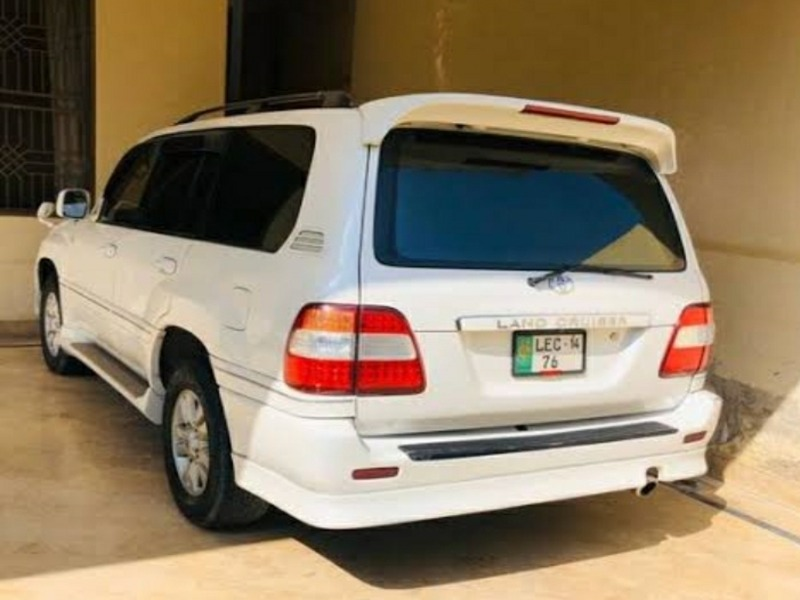License Plate: (508, 325, 592, 381)
